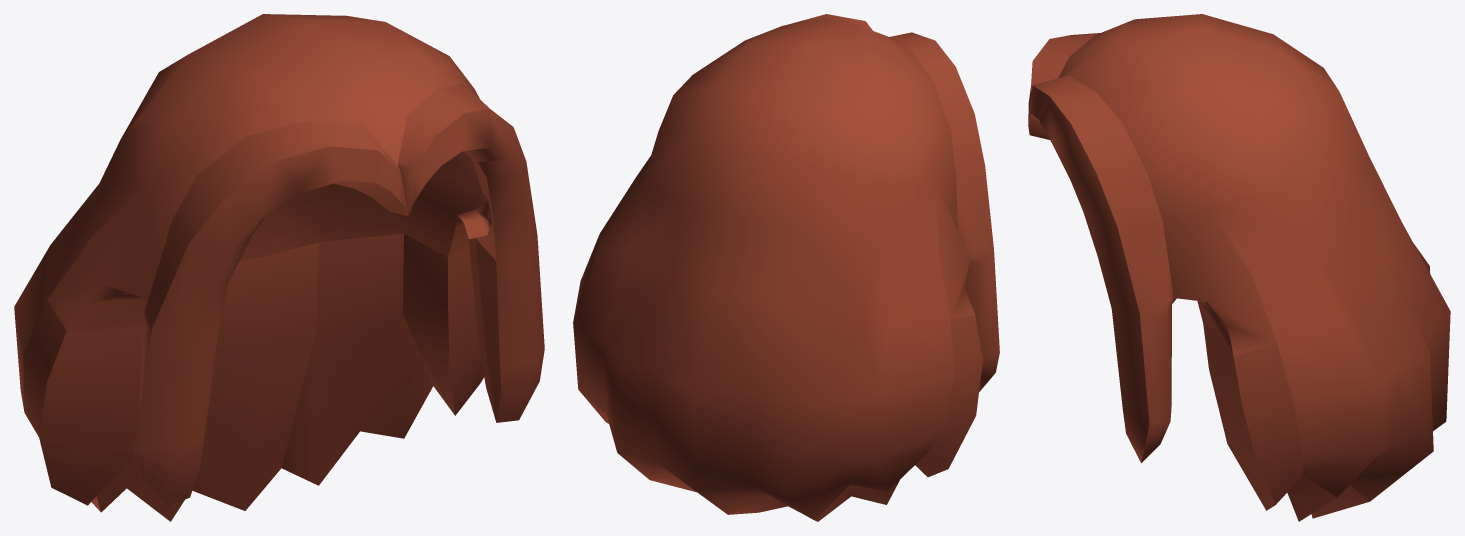
The model's file is Hair_Brown_10.fbx.
3 views of the same model, side by side, from view 1: azimuth 30°, elevation 25°; view 2: azimuth 150°, elevation 25°; view 3: azimuth 270°, elevation 25° (orthographic). The views are drawn at different scales.
Visible parts, largest first — view 1: Hair_Brown_10; view 2: Hair_Brown_10; view 3: Hair_Brown_10.
Part boxes in pixels (box(x1,y1,x2,y2)): Hair_Brown_10: box(14, 14, 544, 521); Hair_Brown_10: box(573, 14, 999, 521); Hair_Brown_10: box(1028, 14, 1450, 521).
Size of the model in its own units: 74.41 by 80.17 by 66.04.
